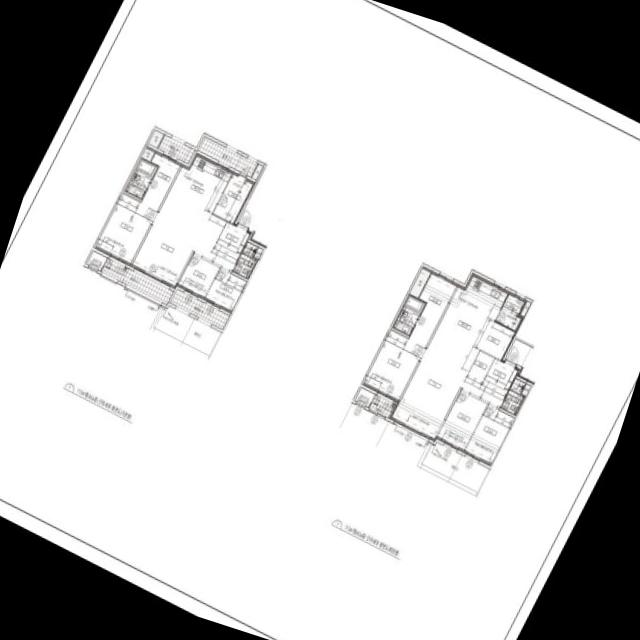background: (0, 0, 640, 640)
space_balconi: (101, 259, 174, 305), (198, 137, 258, 177), (170, 290, 229, 330), (158, 135, 195, 164), (369, 395, 395, 418)
space_bedroom: (95, 194, 158, 266), (363, 330, 426, 402), (436, 391, 487, 452), (464, 405, 514, 466), (204, 269, 247, 314), (177, 255, 219, 300)
space_dressroom: (410, 272, 457, 345), (142, 152, 181, 208)
space_front: (484, 359, 519, 392), (217, 223, 251, 255)
space_kitchen: (437, 274, 516, 361), (170, 153, 233, 213)
space_living_room: (390, 328, 507, 442), (129, 191, 239, 289)
space_multipurpose_space: (213, 172, 255, 224), (496, 293, 524, 331)
space_other: (467, 351, 494, 384), (409, 267, 432, 298), (148, 130, 164, 148), (141, 147, 155, 162), (519, 301, 531, 318), (252, 165, 263, 180), (521, 384, 531, 396), (254, 248, 263, 260)
space_outdoor_room: (87, 251, 107, 271), (355, 388, 375, 408)
space_toilet: (393, 296, 425, 336), (125, 160, 157, 199), (501, 379, 525, 415), (233, 243, 257, 278)
